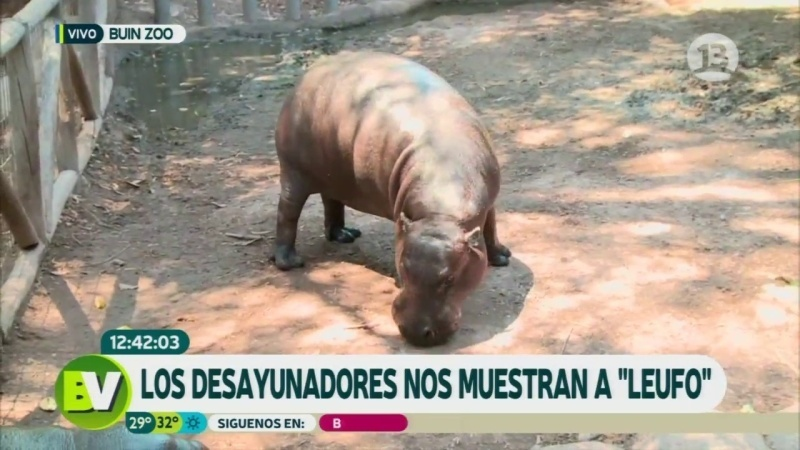hipopotamo: (235, 31, 529, 350)
